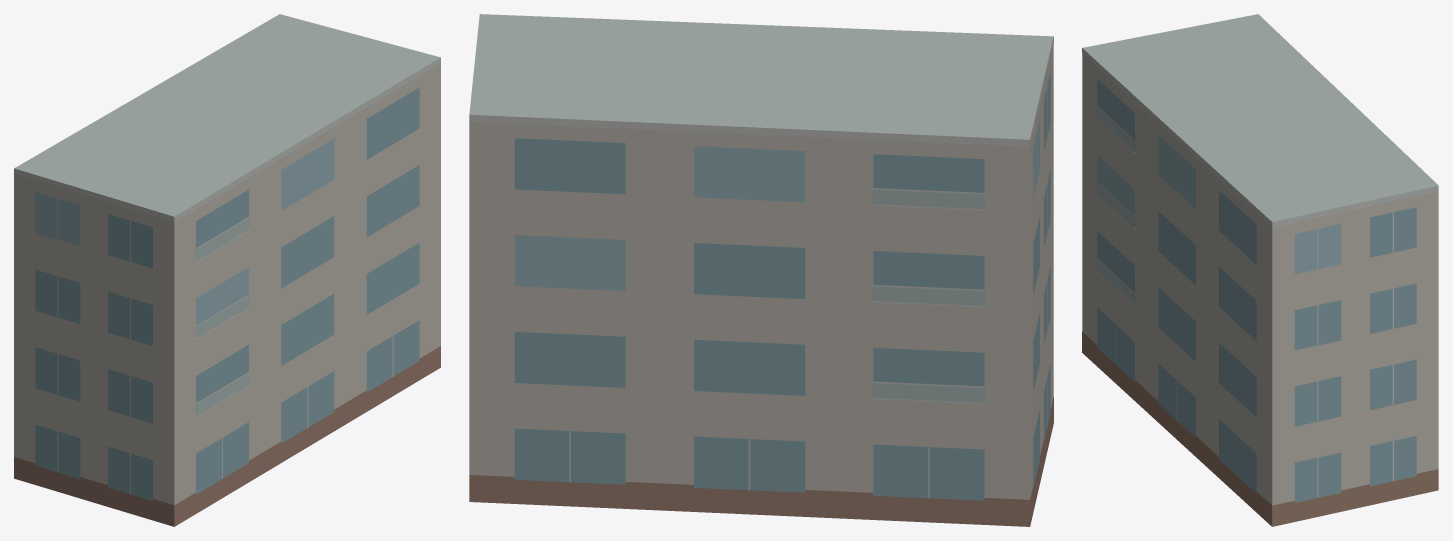
File: survey-upis-32754875.glb
The picture shows the model from 3 angles, left to right: view 1: azimuth 30°, elevation 25°; view 2: azimuth 150°, elevation 25°; view 3: azimuth 270°, elevation 25°; orthographic projection. The views are drawn at different scales.
Visible parts, largest first — view 1: survey-upis-32754875.tmp; view 2: survey-upis-32754875.tmp; view 3: survey-upis-32754875.tmp.
Part boxes in pixels (x1,y1,x2,y2): survey-upis-32754875.tmp: (14, 14, 440, 526); survey-upis-32754875.tmp: (469, 14, 1053, 526); survey-upis-32754875.tmp: (1082, 14, 1438, 526).
Bounding box in the file's own units: 19.48 × 13.3 × 14.11.
